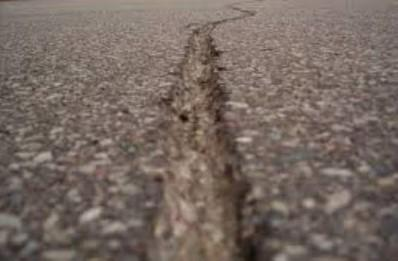crack: (147, 2, 266, 261)
